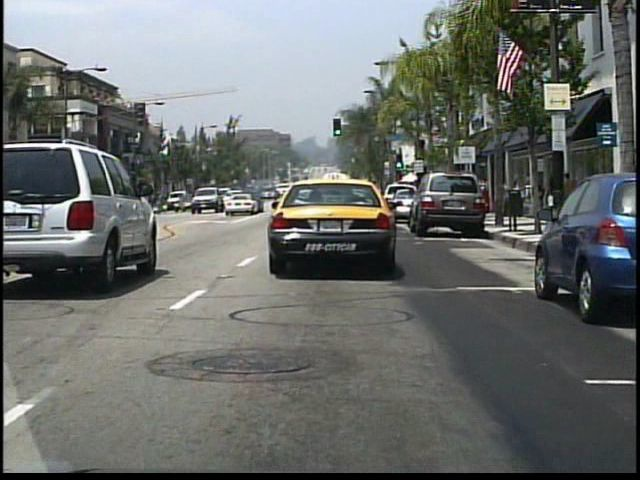person: (559, 171, 578, 222), (530, 176, 549, 226)
